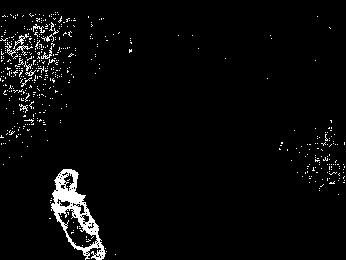person: (48, 165, 109, 260)
